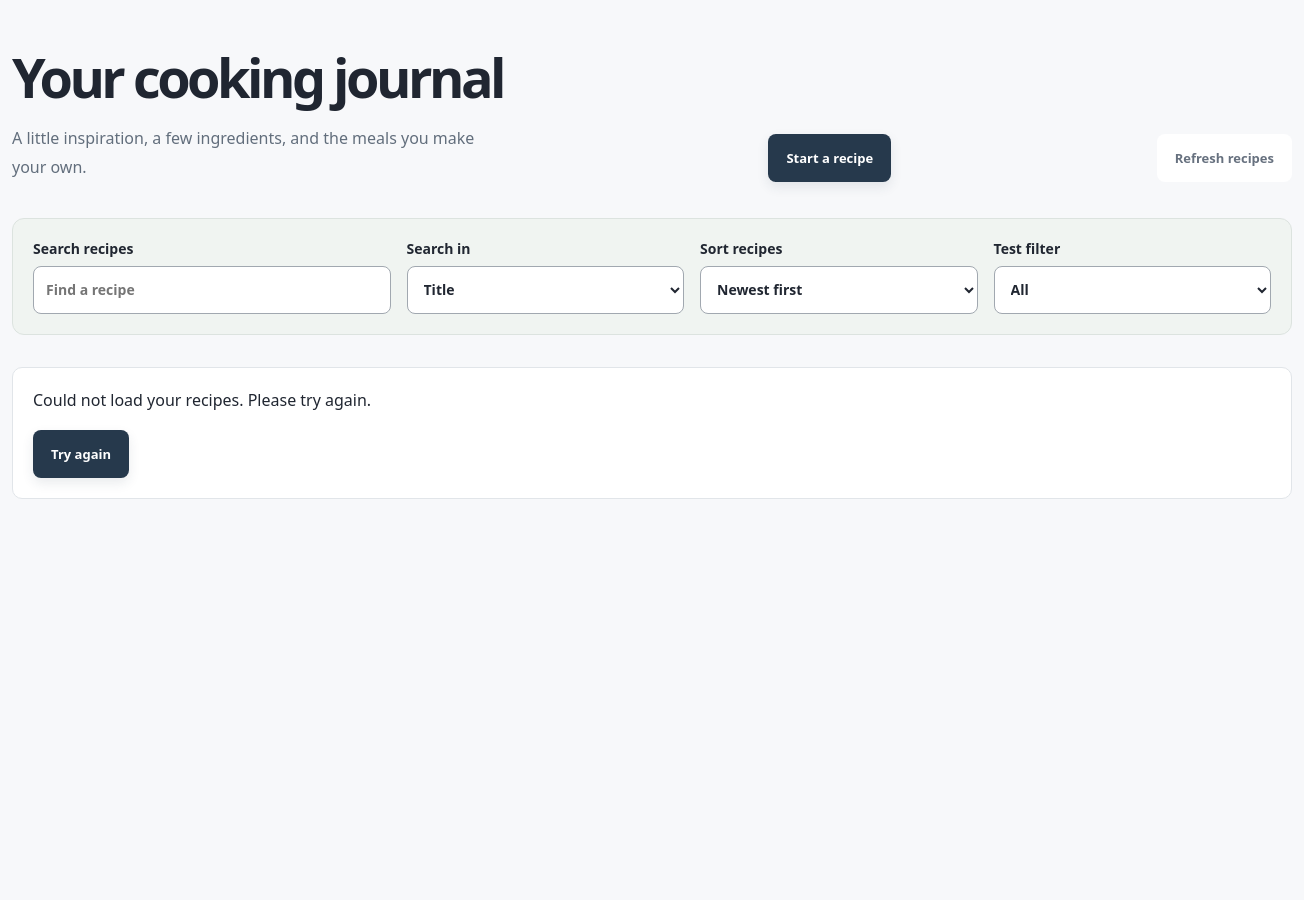
renders a safe first-page failure with retry
expect the message shows "Could not load your recipes": met, box 33,389 -> 371,411
Click the button "Try again" at coordinates (81, 454), box 33,430 -> 129,478
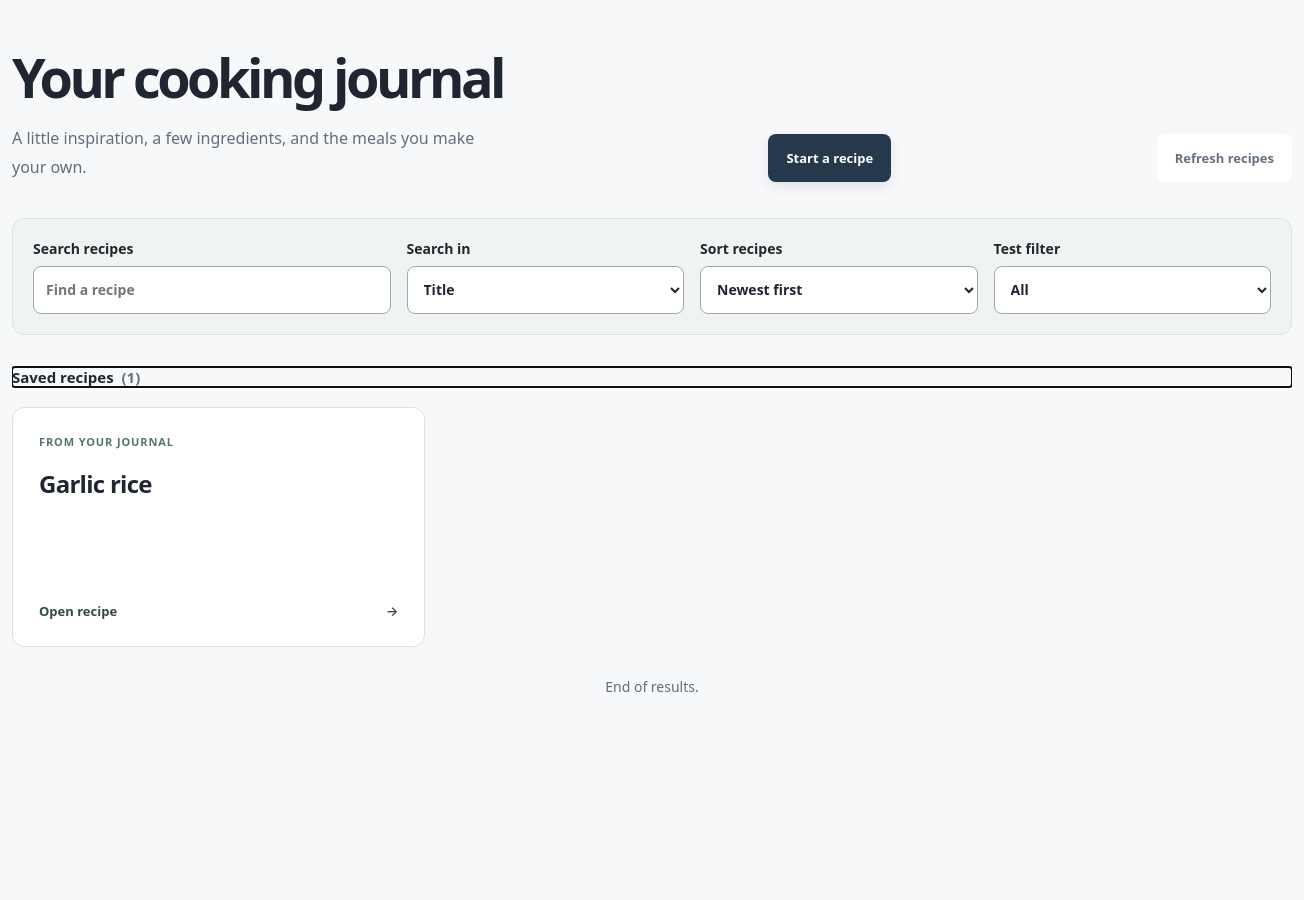
expect the heading "Garlic rice" is shown: met, box 39,467 -> 152,500
